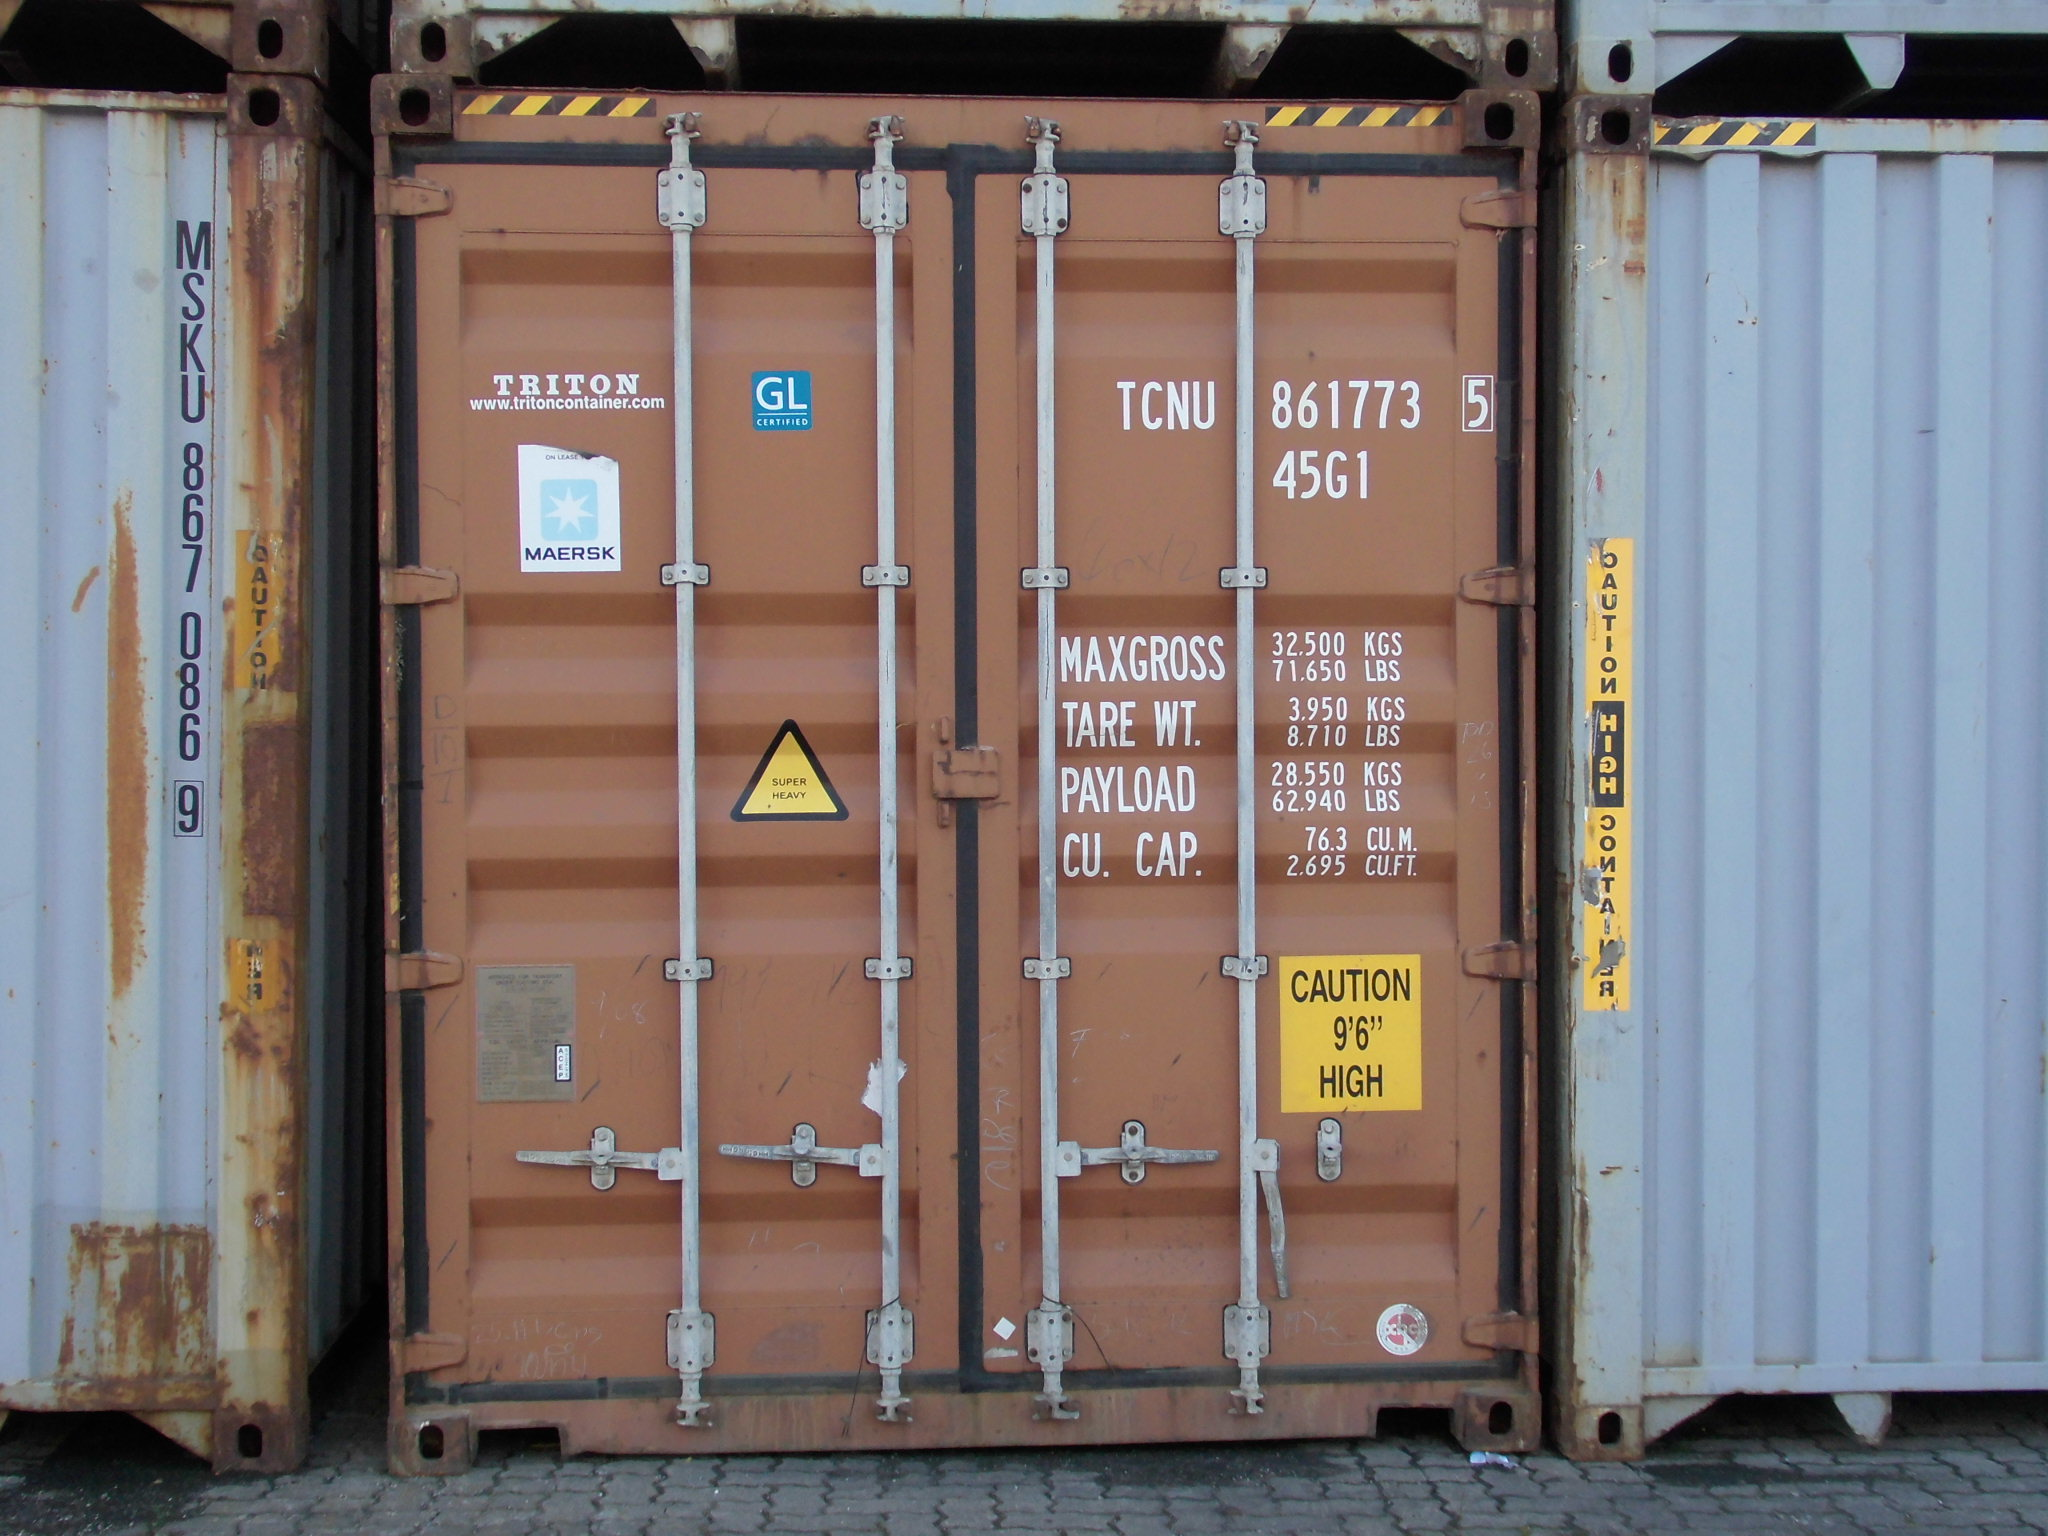container_door: (361, 65, 1553, 1442)
